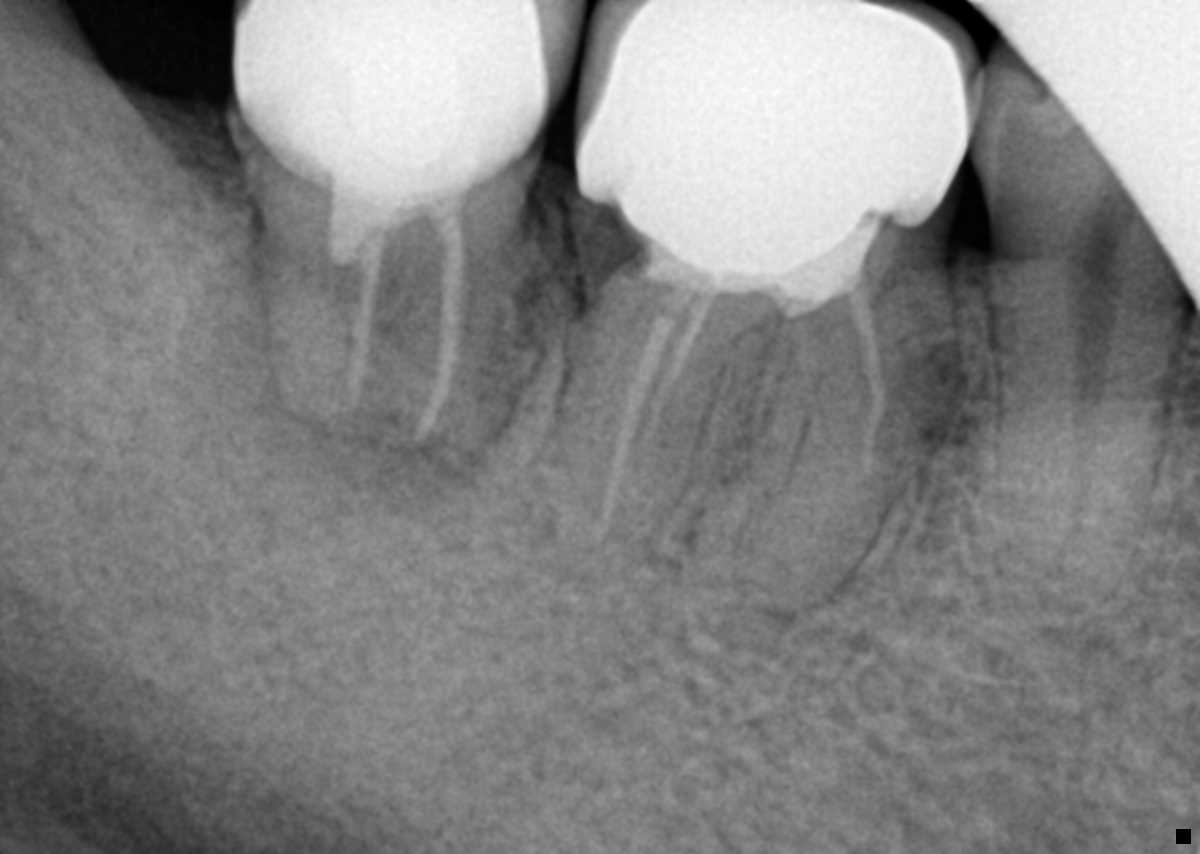Apical Lesion: (196, 297, 517, 550), (708, 589, 816, 653)
Distal Root: (556, 277, 739, 535)
Main Canal: (1045, 276, 1119, 592)
Main Root: (250, 168, 536, 446), (982, 267, 1194, 609)
Mesial Root: (735, 283, 953, 611)
Root Canal Filling: (596, 318, 675, 545), (334, 186, 389, 401), (645, 292, 717, 450), (417, 204, 463, 441), (850, 287, 885, 471)
decay: (570, 202, 649, 295)
